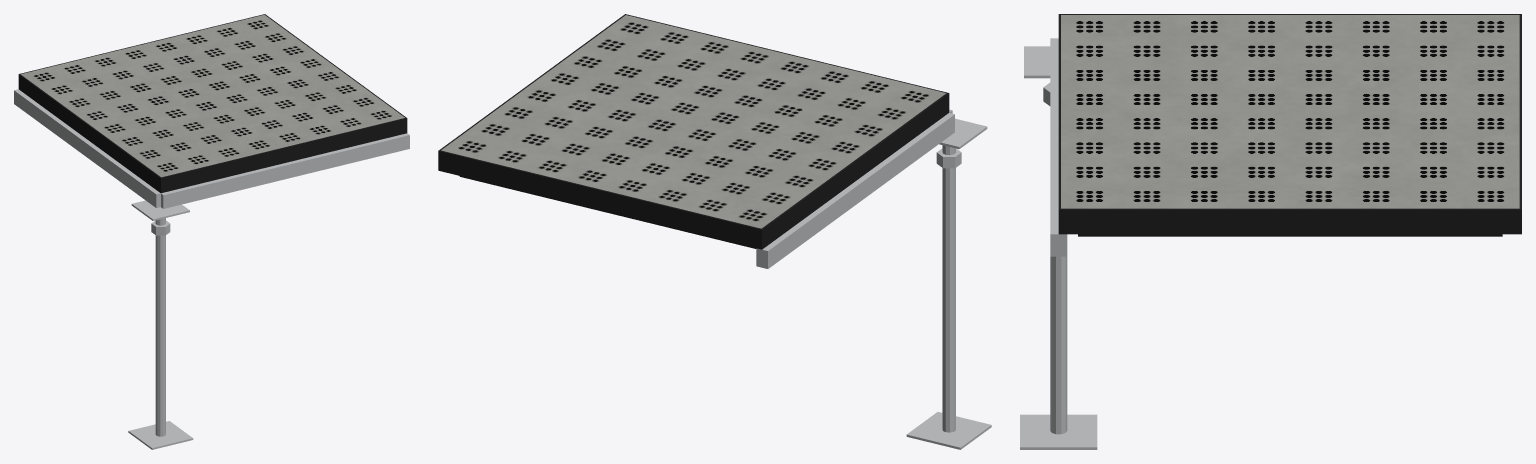
File: Tile_RaisedPerf_600.glb
3 renders of one model, left to right at view 1: azimuth 30°, elevation 25°; view 2: azimuth 150°, elevation 25°; view 3: azimuth 270°, elevation 25°, orthographic. The views are drawn at different scales.
Visible parts, largest first — view 1: Top, Panel, Stringer_X, Stringer_Y, Pedestal_Stem, Pedestal_Base, Pedestal_Head; view 2: Top, Panel, Stringer_Y, Pedestal_Stem, Pedestal_Base, Pedestal_Head; view 3: Top, Panel, Pedestal_Stem, Pedestal_Base, Stringer_X, Damper, Pedestal_Head.
Part boxes in pixels (x1,y1,x2,y2): Top: [21, 14, 404, 177]; Panel: [18, 14, 407, 193]; Stringer_X: [161, 133, 409, 208]; Stringer_Y: [14, 89, 160, 207]; Pedestal_Stem: [155, 218, 165, 436]; Pedestal_Base: [128, 421, 193, 449]; Pedestal_Head: [131, 200, 189, 220]; Top: [441, 15, 946, 228]; Panel: [438, 14, 949, 249]; Stringer_Y: [756, 113, 954, 268]; Pedestal_Stem: [942, 145, 955, 432]; Pedestal_Base: [906, 412, 991, 449]; Pedestal_Head: [939, 118, 987, 149]; Top: [1061, 15, 1519, 208]; Panel: [1058, 14, 1521, 234]; Pedestal_Stem: [1050, 256, 1067, 434]; Pedestal_Base: [1020, 414, 1097, 449]; Stringer_X: [1050, 38, 1067, 256]; Damper: [1078, 234, 1502, 236]; Pedestal_Head: [1024, 46, 1050, 78].
Bounding box in the file's own units: 0.65 × 0.6002 × 0.65.
Materials: 4 (1 with a texture image).
